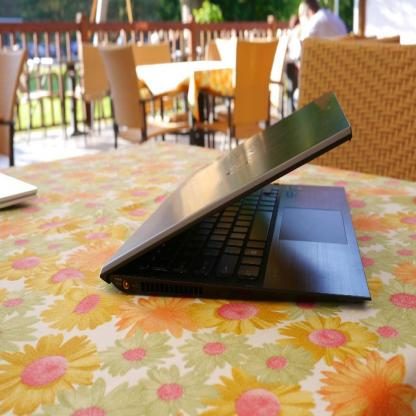board: (99, 93, 373, 304), (0, 171, 39, 210)
